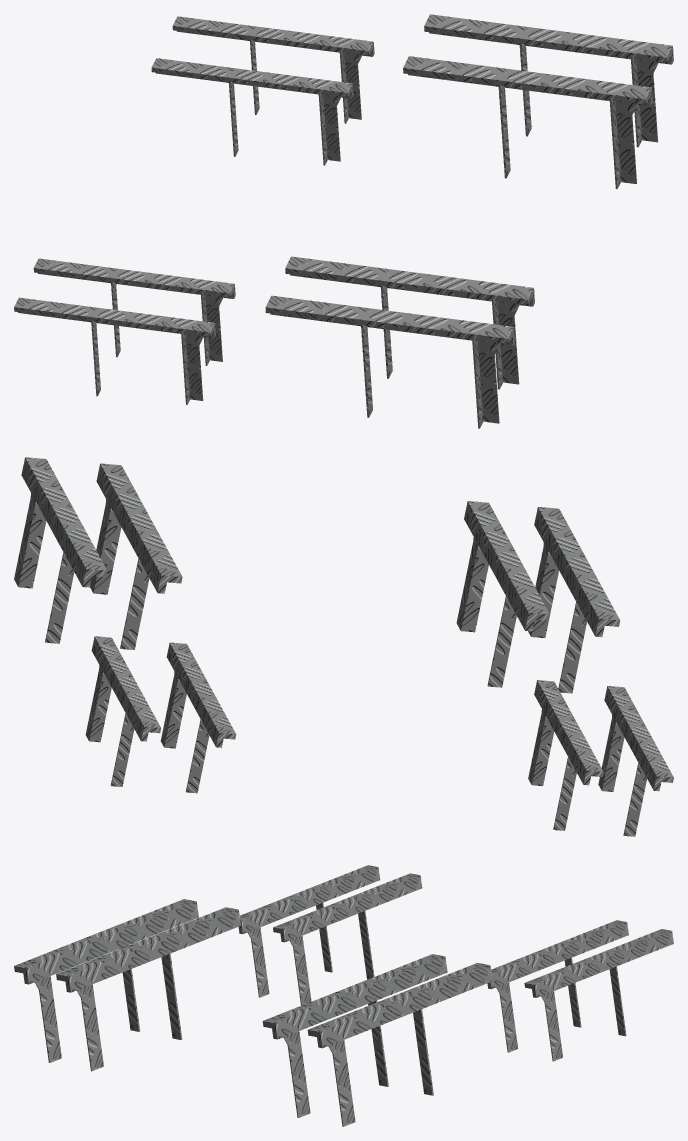
The model's file is Vigas.fbx.
The picture shows the model from 3 angles, top to bottom: view 1: azimuth 30°, elevation 25°; view 2: azimuth 150°, elevation 25°; view 3: azimuth 270°, elevation 25°; orthographic projection. The views are drawn at different scales.
Parts seen in each view (by area): view 1: SoporteTuberia.002, SoporteTuberia, SoporteTuberia.003, SoporteTuberia.001, SoporteTuberia.005, SoporteTuberia.007, SoporteTuberia.004, SoporteTuberia.006; view 2: SoporteTuberia.003, SoporteTuberia.001, SoporteTuberia.002, SoporteTuberia, SoporteTuberia.004, SoporteTuberia.005, SoporteTuberia.006, SoporteTuberia.007; view 3: SoporteTuberia.001, SoporteTuberia.003, SoporteTuberia.002, SoporteTuberia, SoporteTuberia.004, SoporteTuberia.006, SoporteTuberia.007, SoporteTuberia.005.
Part boxes in pixels (<box>): SoporteTuberia.002: <box>403,56,652,189</box>; SoporteTuberia: <box>265,295,515,428</box>; SoporteTuberia.003: <box>424,14,673,147</box>; SoporteTuberia.001: <box>285,256,534,389</box>; SoporteTuberia.005: <box>151,58,353,165</box>; SoporteTuberia.007: <box>14,297,215,404</box>; SoporteTuberia.004: <box>172,16,374,123</box>; SoporteTuberia.006: <box>33,258,235,365</box>; SoporteTuberia.003: <box>14,457,107,643</box>; SoporteTuberia.001: <box>456,501,549,687</box>; SoporteTuberia.002: <box>90,463,182,649</box>; SoporteTuberia: <box>528,507,620,693</box>; SoporteTuberia.004: <box>85,636,160,786</box>; SoporteTuberia.005: <box>160,642,236,793</box>; SoporteTuberia.006: <box>528,680,603,830</box>; SoporteTuberia.007: <box>598,686,673,836</box>; SoporteTuberia.001: <box>56,907,240,1071</box>; SoporteTuberia.003: <box>307,962,492,1126</box>; SoporteTuberia.002: <box>262,954,447,1117</box>; SoporteTuberia: <box>14,899,198,1062</box>; SoporteTuberia.004: <box>524,929,673,1061</box>; SoporteTuberia.006: <box>273,873,422,1005</box>; SoporteTuberia.007: <box>238,865,380,997</box>; SoporteTuberia.005: <box>487,920,628,1052</box>.
Bounding box in the file's own units: 218 × 69.88 × 215.
